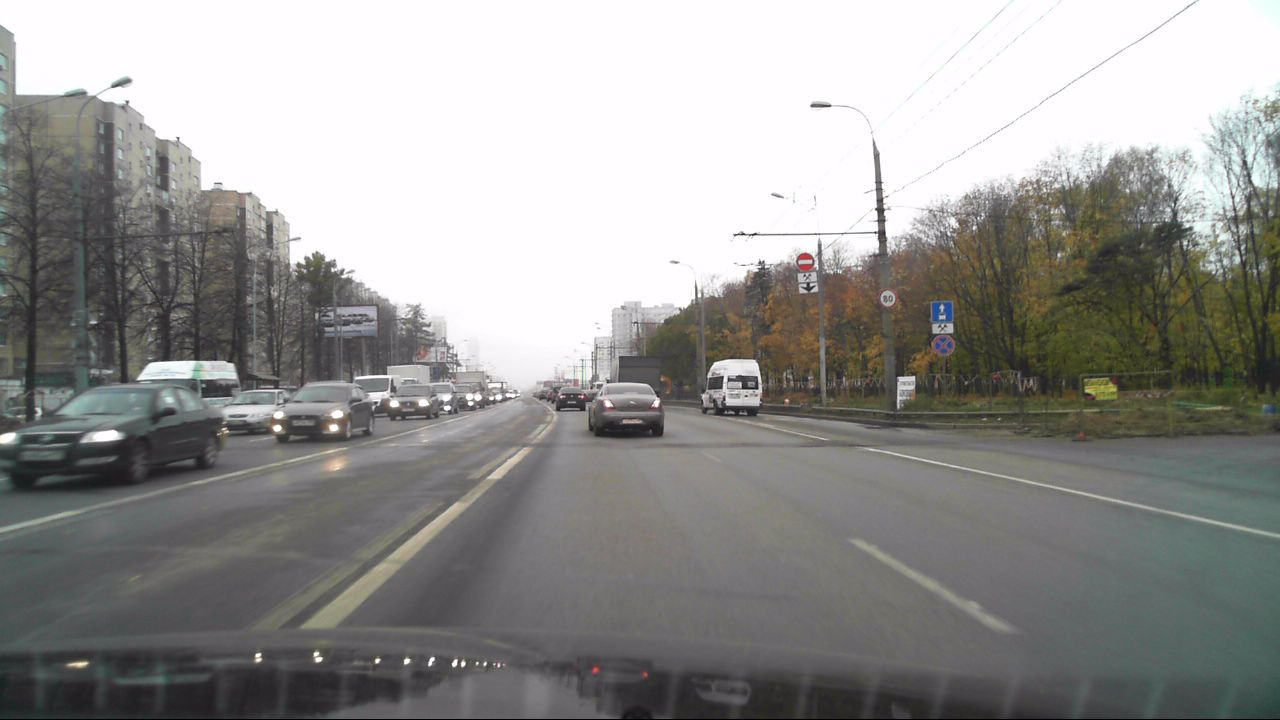No Parking: (932, 333, 955, 356)
